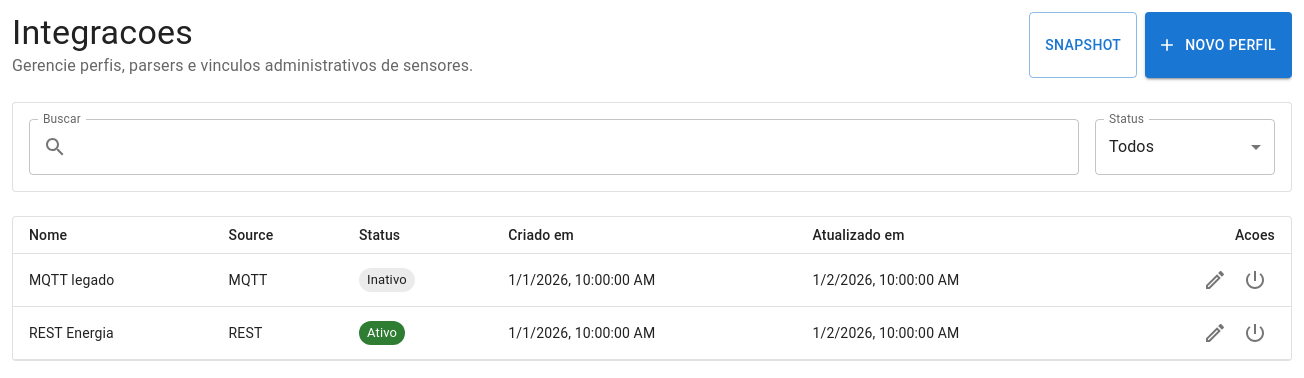
Scenario: profiles › filters and searches profiles client-side
Expected: the text "REST Energia" is shown, 13,306 -> 212,360
Type "mqtt" into the field labelled "Buscar".
click(577, 147); type("mqtt")  # box 75,119 -> 1079,175
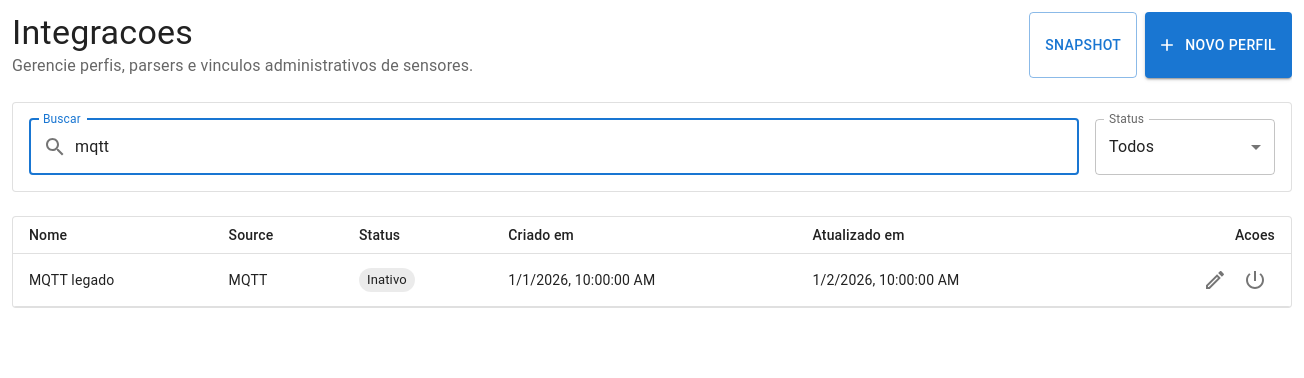
Expected: the text "MQTT legado" is shown, 13,254 -> 212,306
Expected: the text "REST Energia" is gone
Click the dropdown named "Status".
click(1132, 147)  # box 1109,138 -> 1154,156
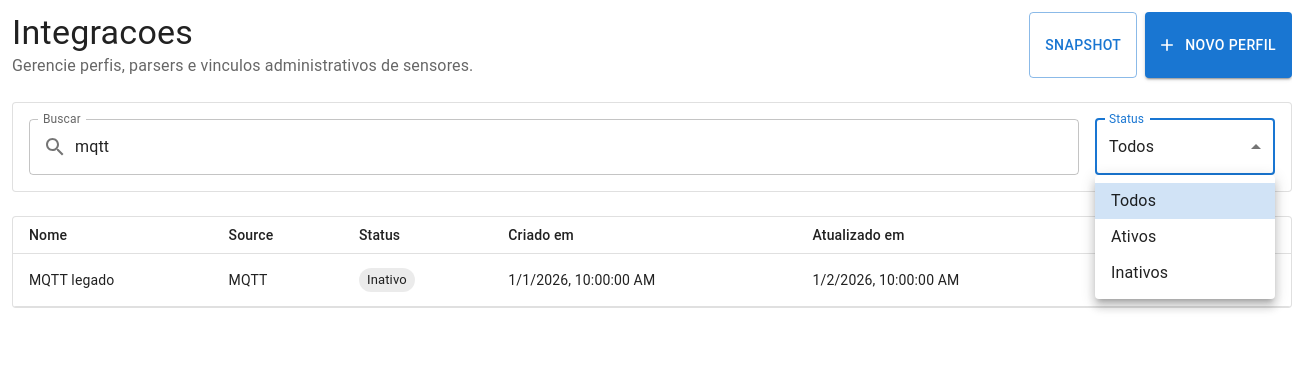
Click the option "Ativos".
click(1134, 236)  # box 1111,227 -> 1156,246
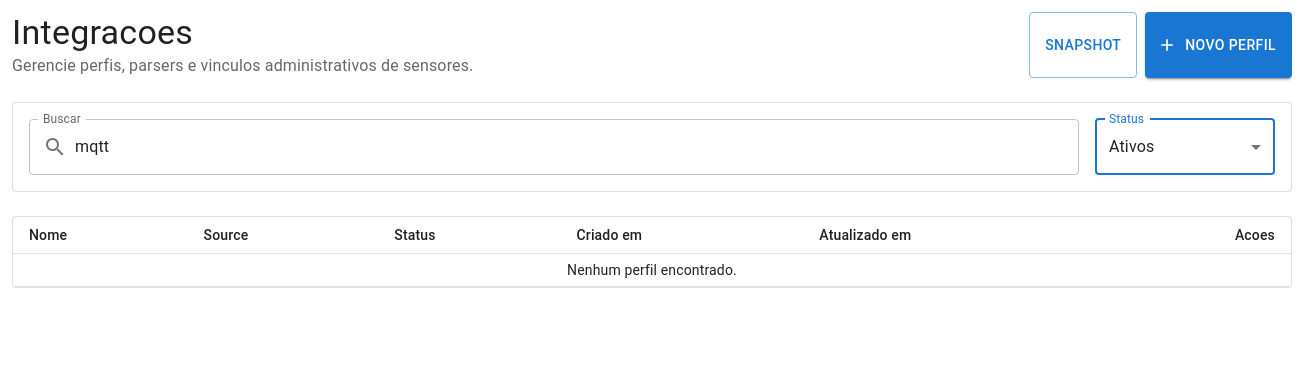
Expected: the text "Nenhum perfil encontrado." is shown, 13,254 -> 1291,286
